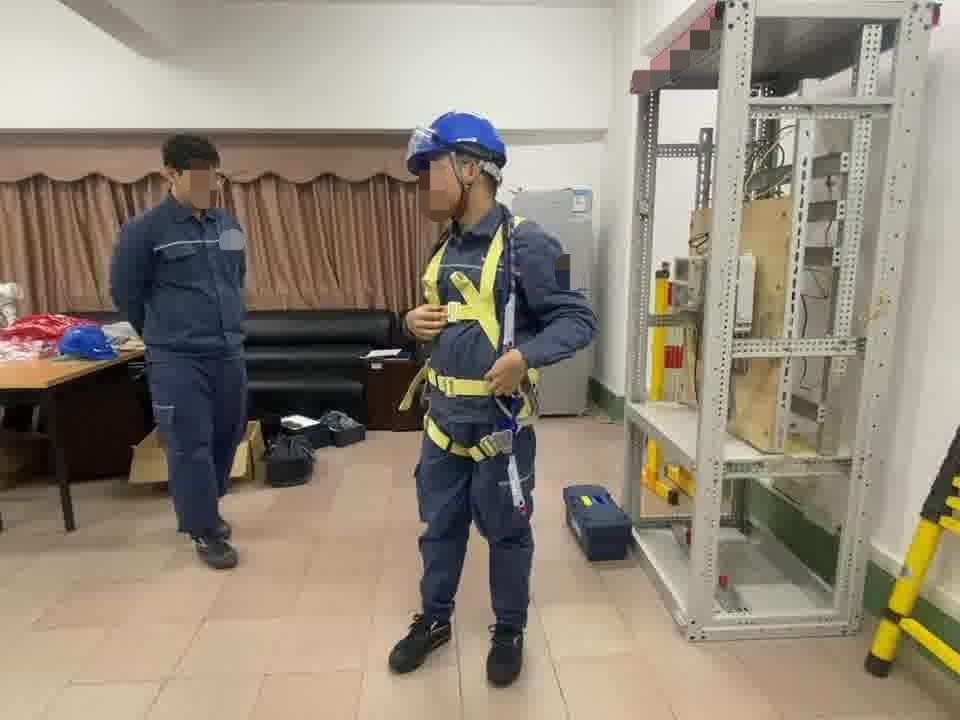halt: (409, 112, 513, 220)
inear: (450, 152, 490, 205)
noear: (166, 167, 192, 200)
unhalt: (165, 135, 226, 209)
